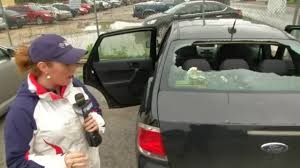Broken-glass: (173, 38, 299, 82)
